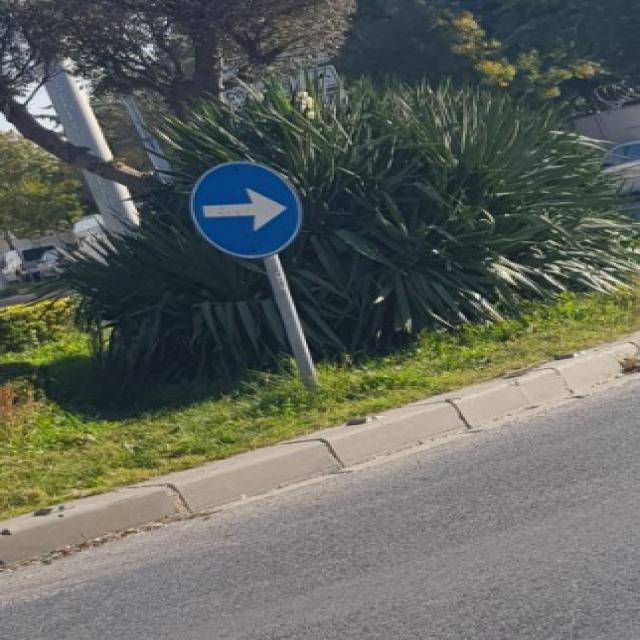Turn Right: (180, 165, 307, 255)
